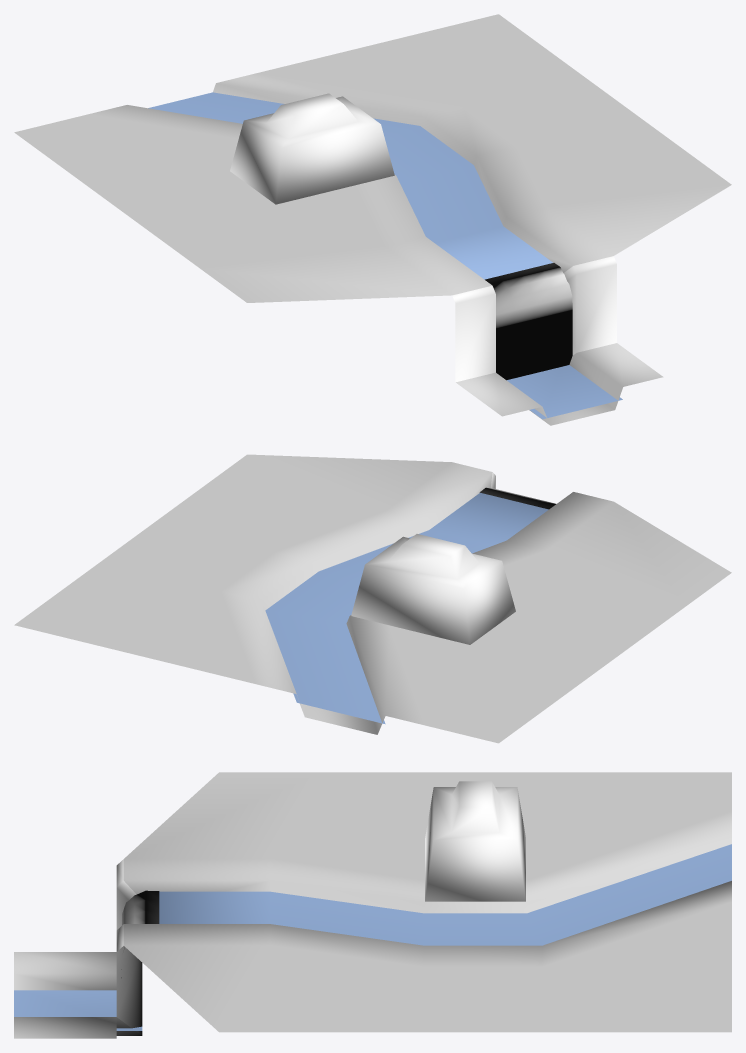
File: Plattform-Tiles.fbx_Back_Flusslauf.fbx
3 views of the same model, one above another, from view 1: azimuth 30°, elevation 25°; view 2: azimuth 150°, elevation 25°; view 3: azimuth 270°, elevation 25° (orthographic). The views are drawn at different scales.
Visible parts, largest first — view 1: Back_Flusslauf; view 2: Back_Flusslauf; view 3: Back_Flusslauf.
Part boxes in pixels (x1,y1,x2,y2): Back_Flusslauf: [14, 14, 731, 425]; Back_Flusslauf: [14, 454, 731, 743]; Back_Flusslauf: [14, 772, 731, 1038].
Size of the model in its own units: 1400 by 413 by 1200.
